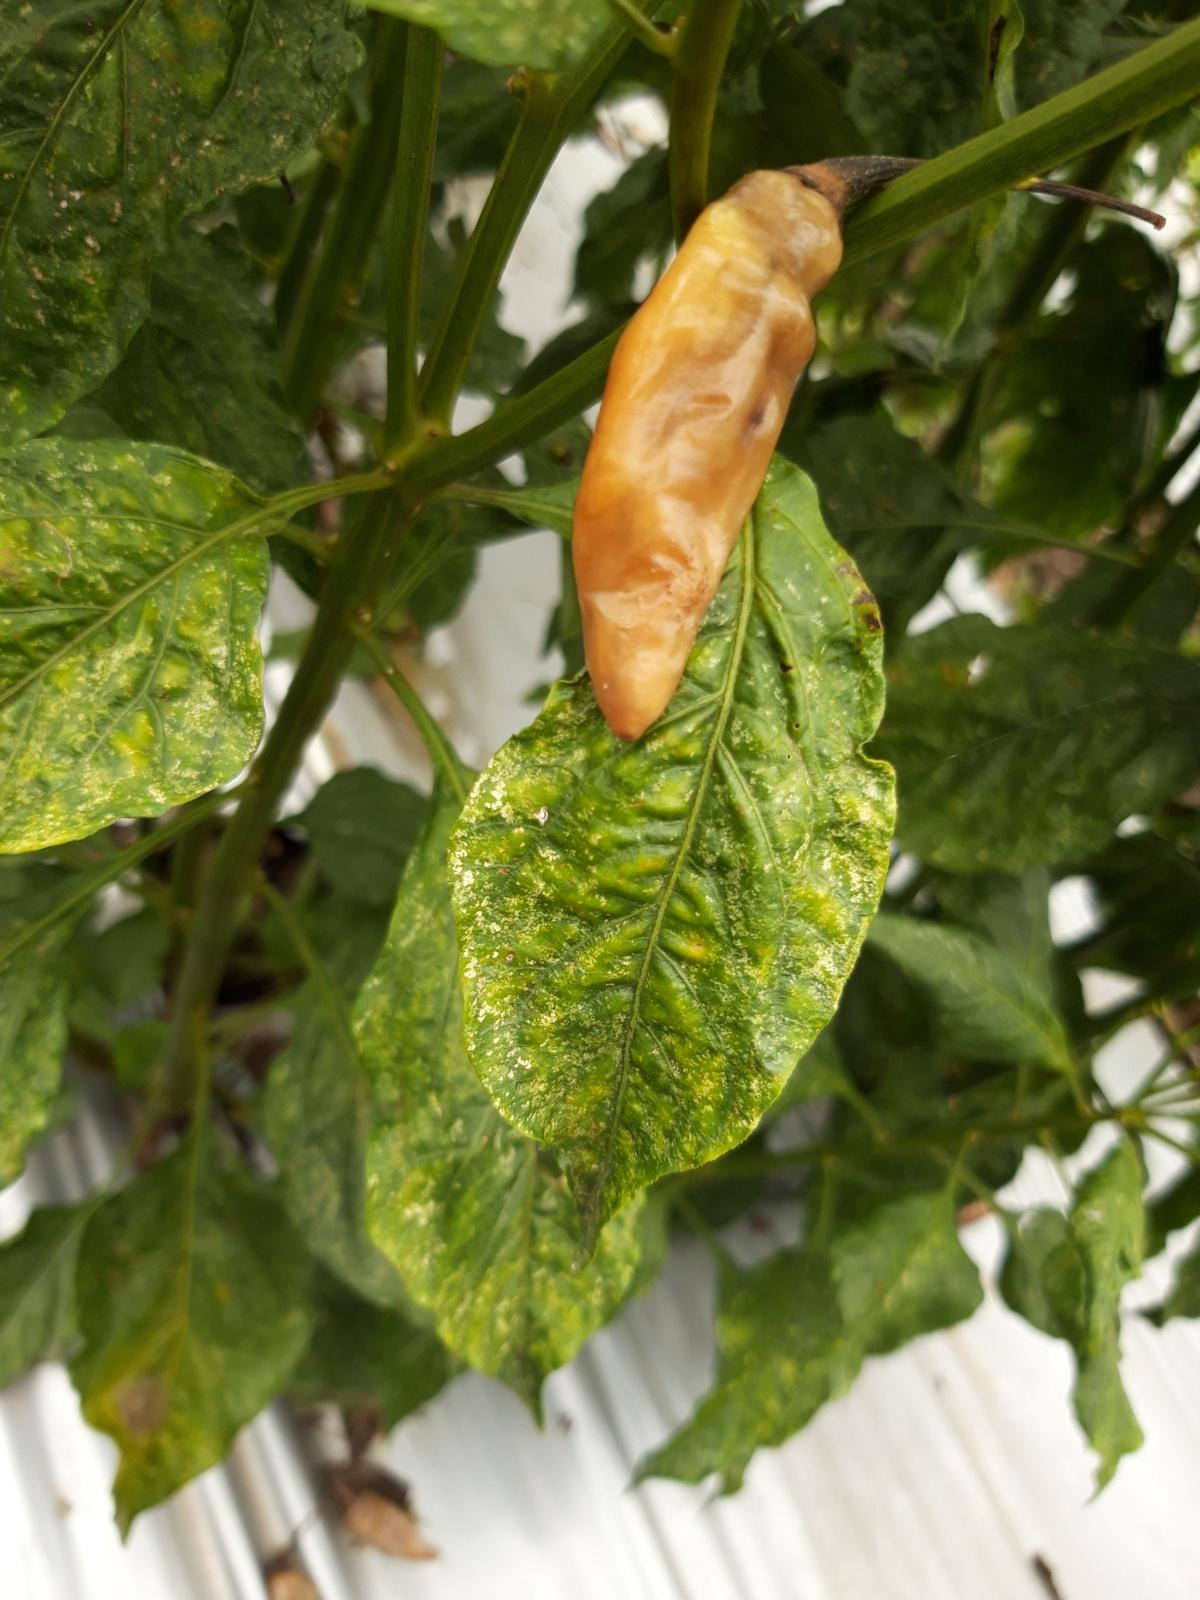lalat_buah: (561, 160, 847, 740)
